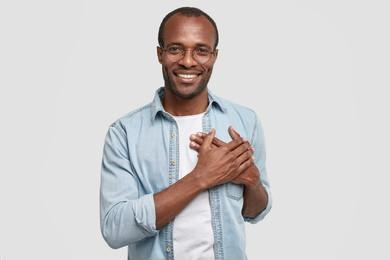face: (160, 13, 217, 98)
